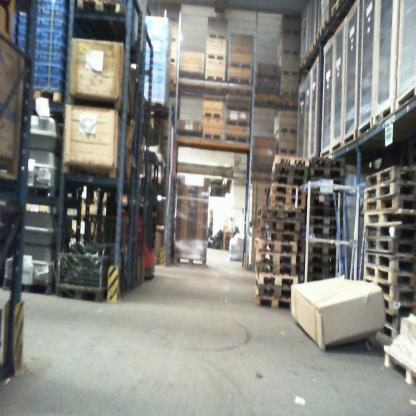forklift: (108, 139, 166, 285)
pallet: (73, 1, 137, 45), (363, 163, 416, 191), (363, 178, 416, 202), (363, 277, 416, 301), (363, 248, 416, 271), (365, 220, 416, 243), (364, 208, 416, 230), (363, 264, 415, 286), (54, 282, 108, 303), (363, 195, 416, 216), (363, 236, 415, 257), (3, 275, 54, 296), (4, 5, 25, 43), (258, 217, 301, 233), (257, 228, 299, 244), (256, 251, 297, 267), (384, 297, 416, 317), (258, 206, 302, 220), (258, 272, 299, 287), (269, 182, 306, 198), (256, 240, 298, 254), (270, 164, 309, 179), (254, 294, 290, 310), (32, 86, 65, 103), (26, 183, 59, 200), (268, 194, 305, 209), (270, 172, 307, 187), (271, 154, 310, 168), (257, 263, 297, 276), (257, 284, 291, 298), (174, 253, 207, 267), (379, 322, 401, 343), (310, 156, 346, 168), (308, 175, 345, 186), (384, 310, 401, 331), (276, 28, 301, 42), (142, 177, 177, 187), (310, 194, 337, 206), (277, 48, 300, 62), (310, 167, 345, 176), (307, 273, 338, 283), (310, 206, 338, 217), (308, 263, 335, 274), (179, 70, 205, 81), (309, 225, 337, 235), (308, 253, 336, 263), (225, 133, 248, 145), (273, 127, 298, 138), (143, 99, 168, 110), (331, 0, 346, 18), (320, 14, 332, 36), (307, 245, 336, 254), (176, 128, 202, 138), (227, 75, 252, 85), (255, 70, 280, 80), (229, 60, 253, 70), (310, 216, 336, 225), (202, 132, 223, 143), (225, 104, 248, 114), (255, 86, 281, 94), (205, 52, 227, 61), (309, 234, 337, 241), (203, 110, 223, 119), (281, 15, 301, 24), (311, 33, 320, 51), (280, 69, 300, 77), (278, 148, 298, 156), (208, 33, 227, 41), (280, 88, 298, 96), (205, 75, 225, 82), (227, 122, 250, 128), (296, 263, 305, 274), (296, 253, 305, 264), (297, 244, 306, 255), (305, 49, 312, 62), (298, 58, 305, 71), (298, 235, 306, 245), (299, 226, 307, 236), (169, 54, 177, 63), (299, 273, 305, 284), (243, 253, 252, 260), (224, 232, 238, 236), (300, 217, 306, 226), (224, 235, 234, 239), (170, 81, 176, 87), (223, 240, 229, 245), (223, 247, 229, 251), (223, 244, 229, 248), (223, 238, 230, 241)
stillage: (56, 242, 110, 303)
